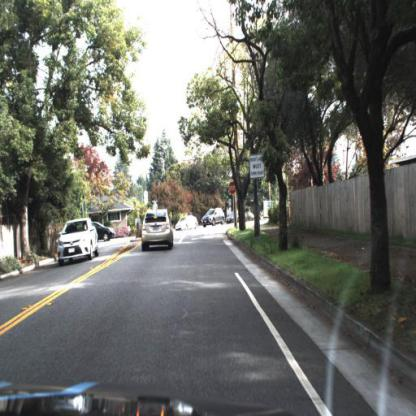car: (52, 217, 101, 267), (54, 216, 101, 266), (143, 211, 172, 251), (201, 208, 228, 229), (174, 213, 202, 232), (94, 223, 118, 245), (176, 213, 199, 231), (227, 205, 245, 221)
